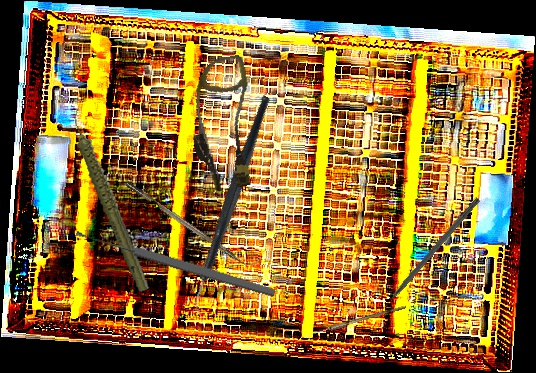Cannula: (179, 54, 267, 194)
Chopper: (126, 93, 340, 324), (125, 175, 257, 273)
Handpiece: (69, 101, 152, 298)
Hook Surgical: (375, 195, 481, 316)
Surgical Spoon: (74, 227, 277, 299), (301, 303, 407, 340)
